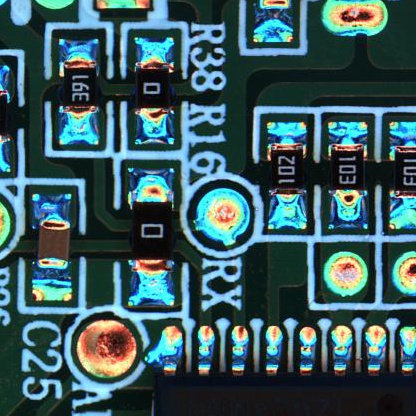spot: (187, 185, 255, 254), (75, 315, 139, 384), (322, 247, 369, 304)
